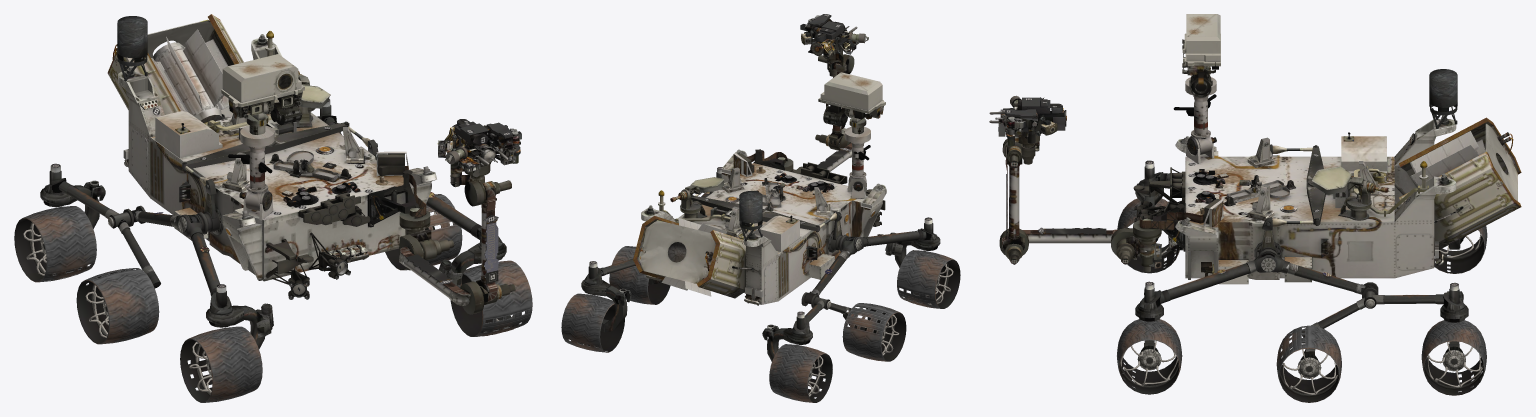
Rendered from curiosity.glb.
3 renders of one model, left to right at view 1: azimuth 30°, elevation 25°; view 2: azimuth 150°, elevation 25°; view 3: azimuth 270°, elevation 25°, orthographic. The views are drawn at different scales.
Parts seen in each view (by area): view 1: MSL; view 2: MSL; view 3: MSL.
Part boxes in pixels (left/top/right/bottom): MSL: left=14, top=14, right=532, bottom=402; MSL: left=561, top=14, right=960, bottom=402; MSL: left=989, top=14, right=1521, bottom=402.
Size of the model in its own units: 2.78 by 2.22 by 3.94.
9 materials, 8 textured.
